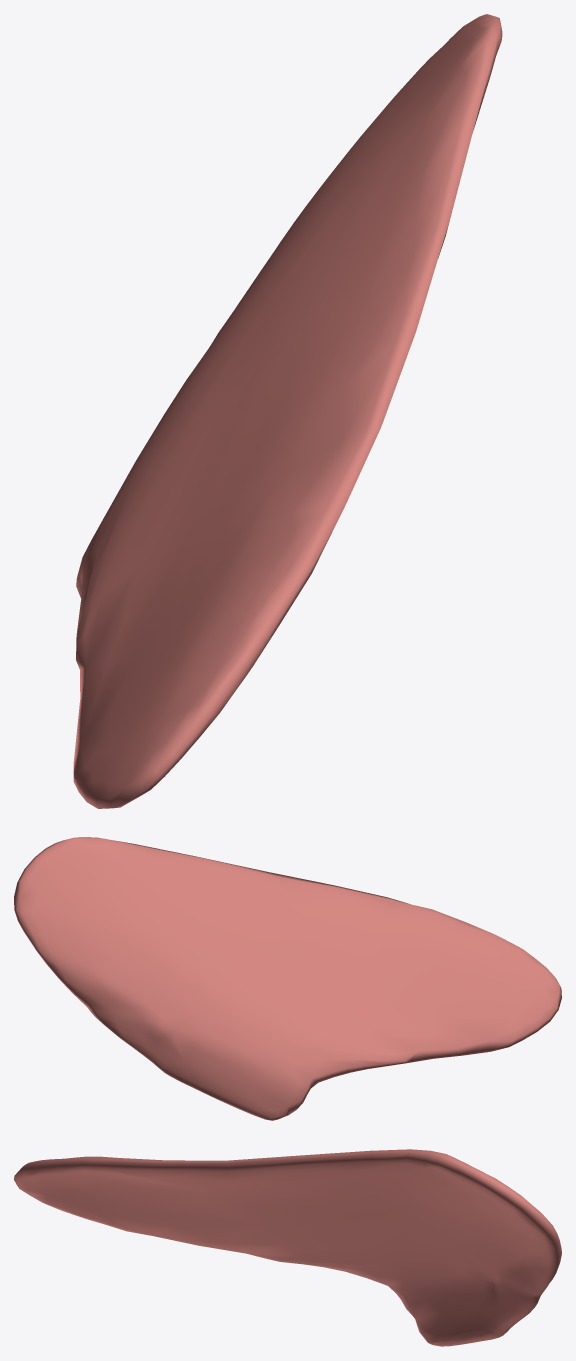
The picture shows the model from 3 angles, top to bottom: view 1: azimuth 30°, elevation 25°; view 2: azimuth 150°, elevation 25°; view 3: azimuth 270°, elevation 25°; orthographic projection. The views are drawn at different scales.
Parts seen in each view (by area): view 1: ZA_d04d33491d8f3cc1; view 2: ZA_d04d33491d8f3cc1; view 3: ZA_d04d33491d8f3cc1.
Part boxes in pixels (x1,y1,x2,y2): ZA_d04d33491d8f3cc1: (73, 14, 502, 808); ZA_d04d33491d8f3cc1: (14, 837, 561, 1120); ZA_d04d33491d8f3cc1: (14, 1149, 561, 1346).
Size of the model in its own units: 0.0182 by 0.0113 by 0.0177.
